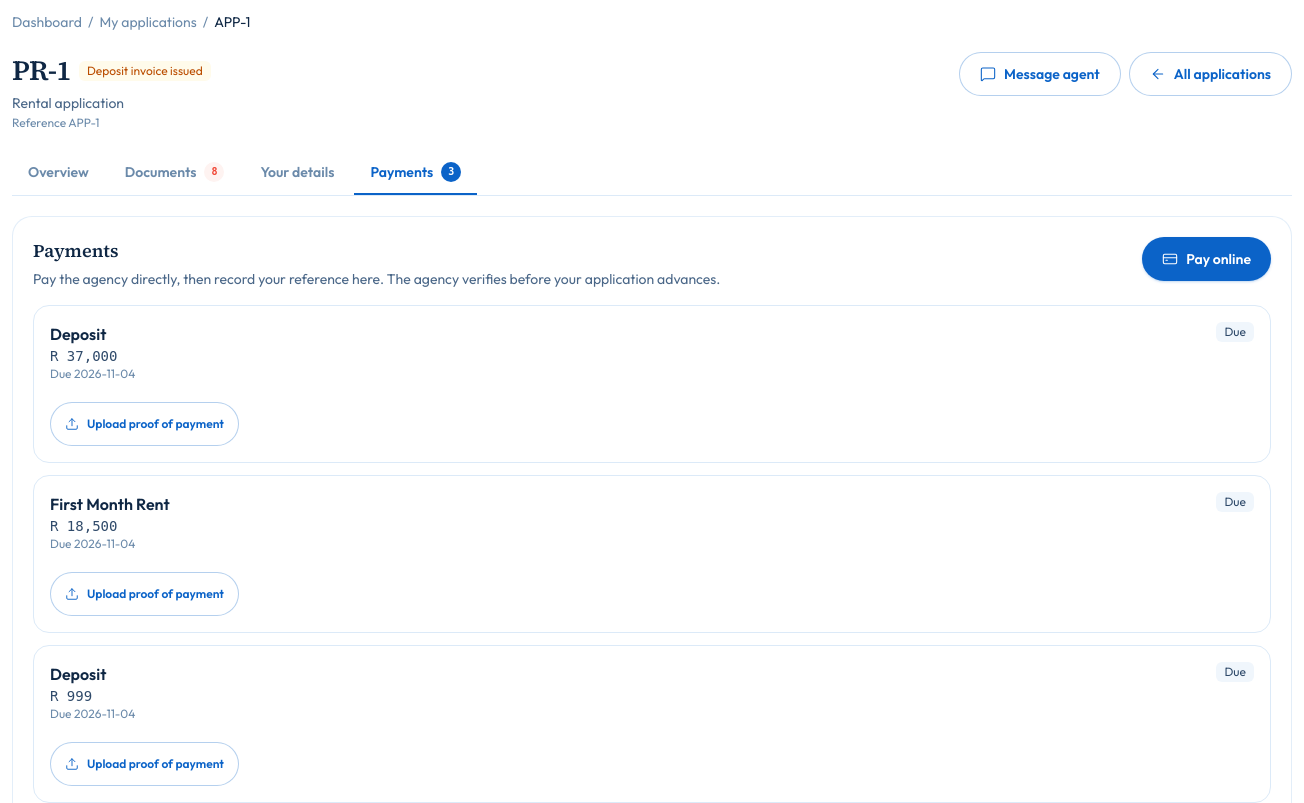
Test: tenant application page: open checkout uses live, own rows only › C2: lists and offers Pay only on rows raised against the signed-in applicant
The width and height of the screenshot is (1304, 803).
Click the button "Pay online".
click(1207, 259)  # box x1=1142 y1=237 x2=1271 y2=281
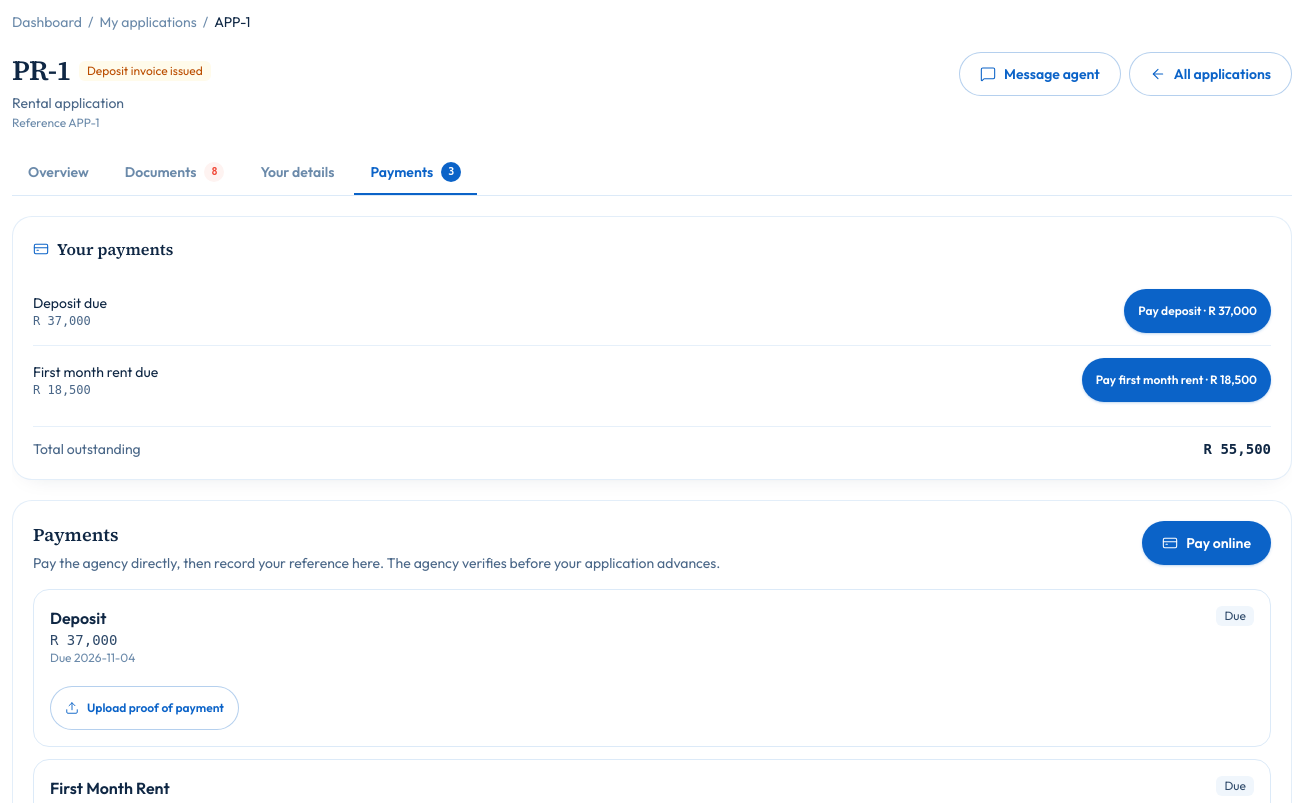
Now the element with test id "tenant-checkout" is shown, box x1=12 y1=216 x2=1292 y2=480
Now the button with test id "pay-PAY-dep" is shown, box x1=1124 y1=289 x2=1271 y2=333
Now the button with test id "pay-PAY-rent" is shown, box x1=1082 y1=358 x2=1271 y2=402
